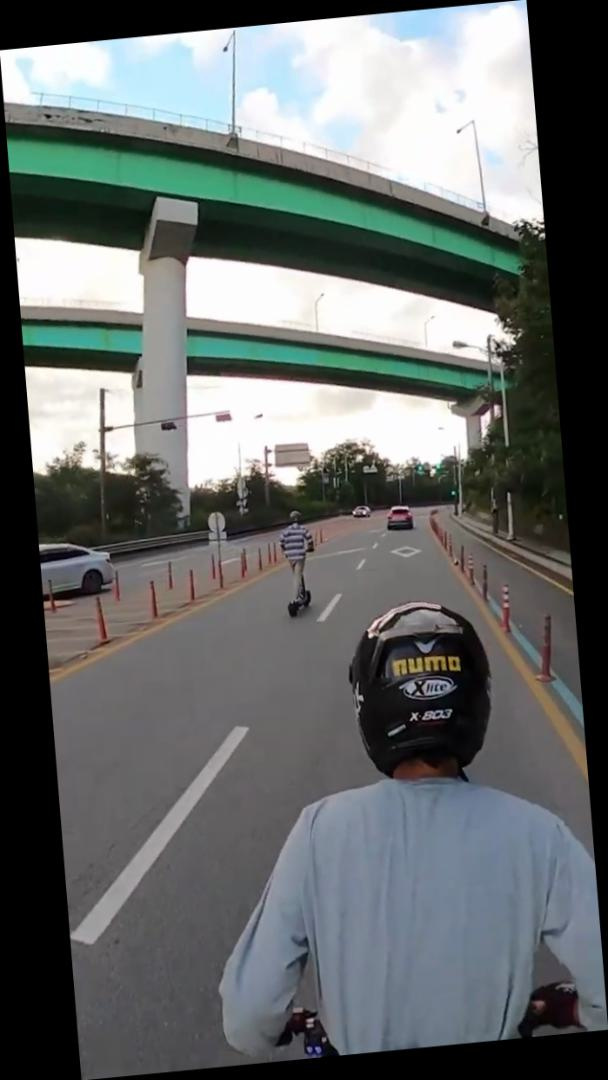helmet: (275, 506, 322, 622)
